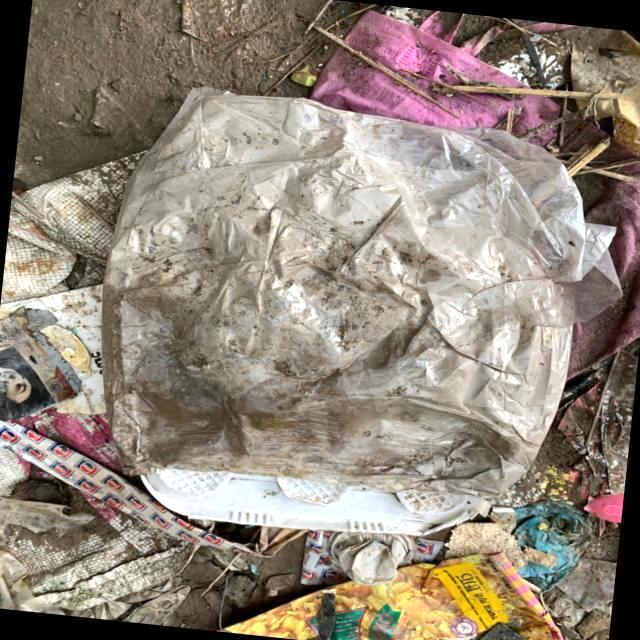polythene: (71, 113, 583, 574)
